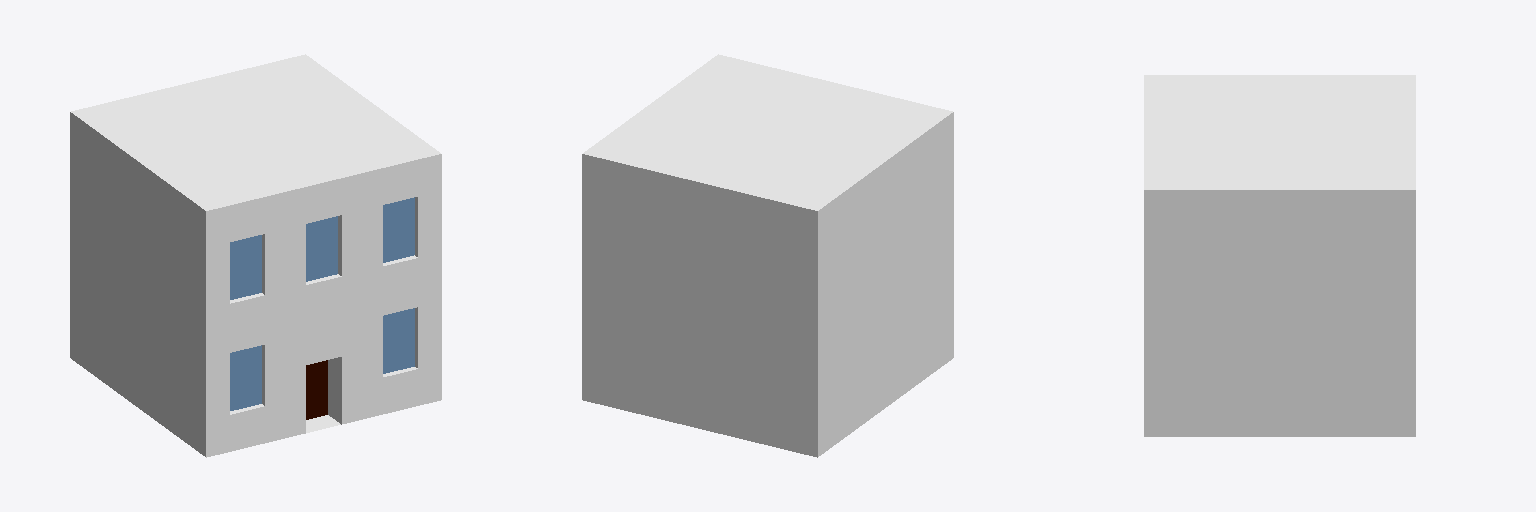
Rendered from buildingText.obj.
3 renders of one model, left to right at view 1: azimuth 30°, elevation 25°; view 2: azimuth 150°, elevation 25°; view 3: azimuth 270°, elevation 25°, orthographic.
Parts seen in each view (by area): view 1: Cube_Cube.001, Cube.007, Cube.006, Cube.001_Cube.002, Cube.003_Cube.000, Cube.002_Cube.003; view 2: Cube.008, Cube.007, Cube.006; view 3: Cube.004, Cube.006.
Part boxes in pixels (x1,y1,x2,y2): Cube_Cube.001: (206, 154, 441, 457); Cube.007: (70, 112, 205, 456); Cube.006: (71, 54, 440, 210); Cube.001_Cube.002: (230, 197, 414, 410); Cube.003_Cube.000: (230, 197, 417, 432); Cube.002_Cube.003: (306, 360, 327, 419); Cube.008: (582, 154, 817, 457); Cube.007: (818, 112, 953, 456); Cube.006: (583, 54, 952, 210); Cube.004: (1144, 190, 1415, 436); Cube.006: (1144, 75, 1415, 189).
Size of the model in its own units: 2 by 2 by 2.